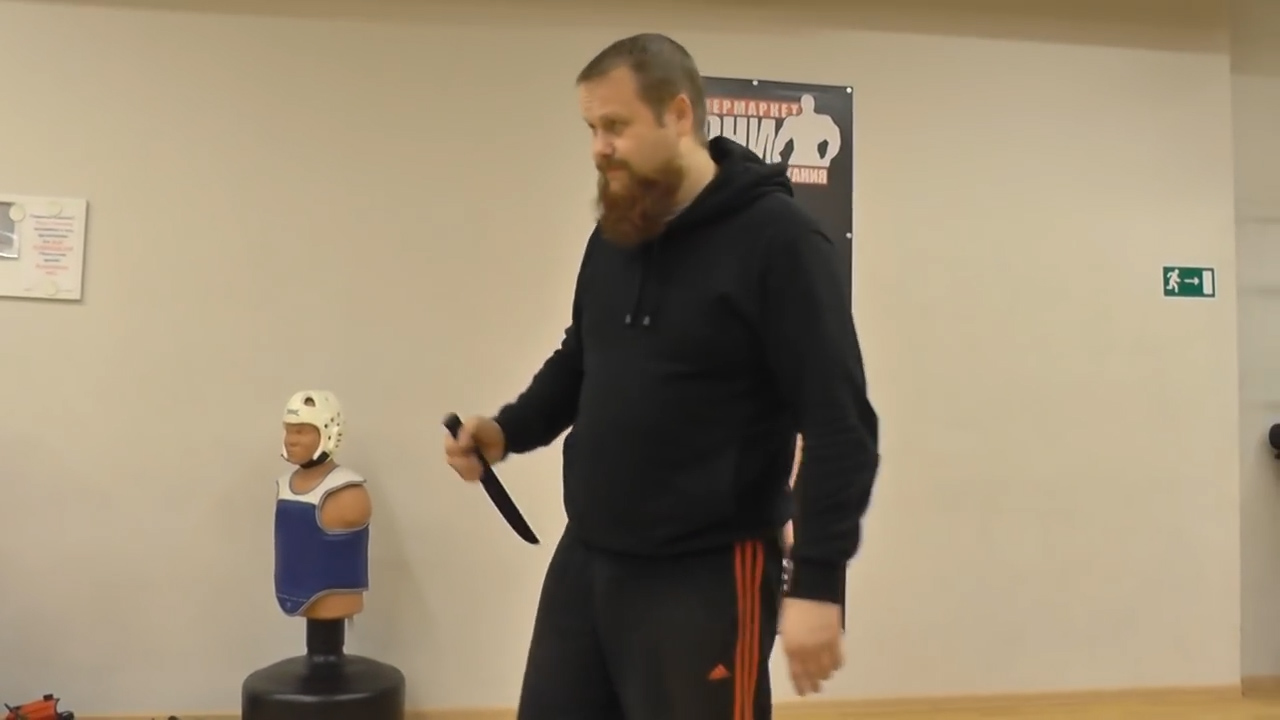knife: (438, 407, 545, 551)
